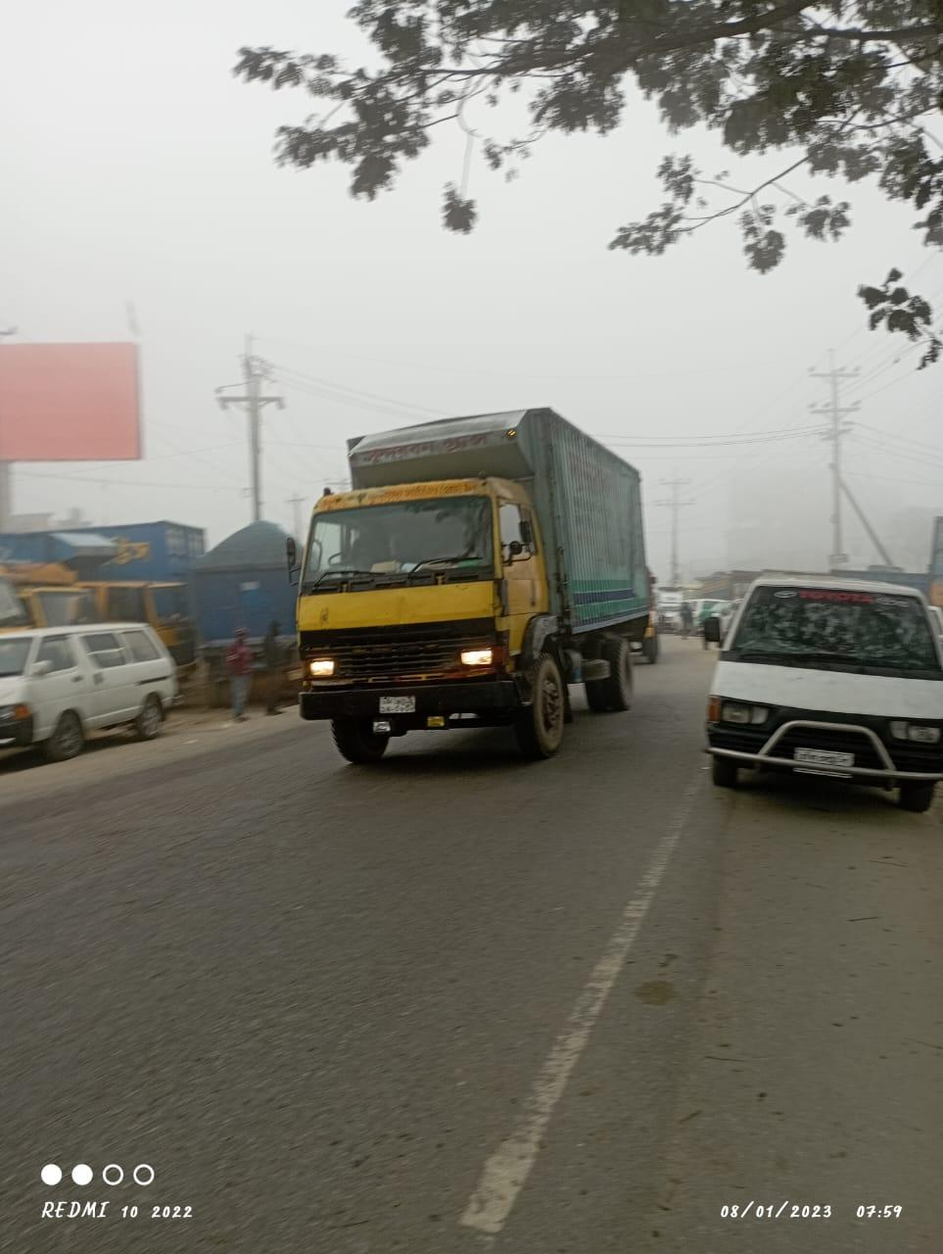Car: (695, 563, 942, 799), (1, 615, 188, 748)
Truck: (287, 389, 652, 751)
